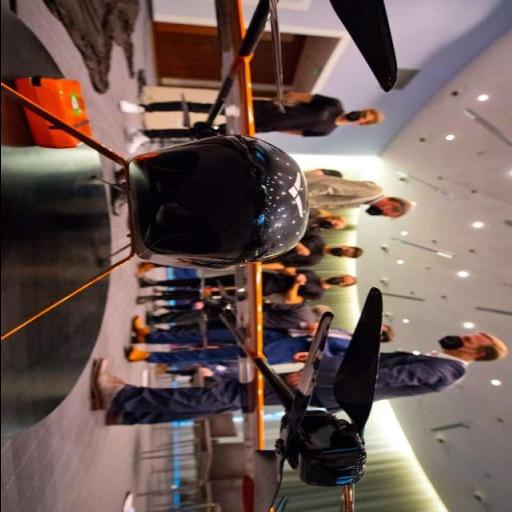uav: (0, 0, 385, 509)
